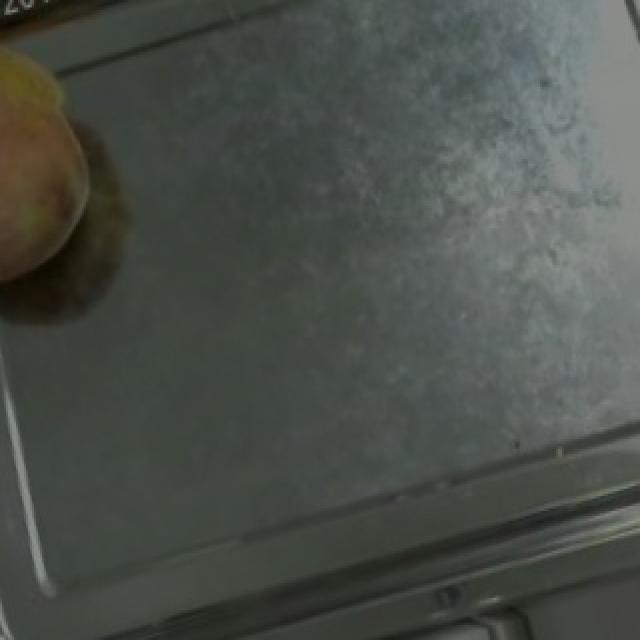Fruit: (0, 10, 128, 305)
